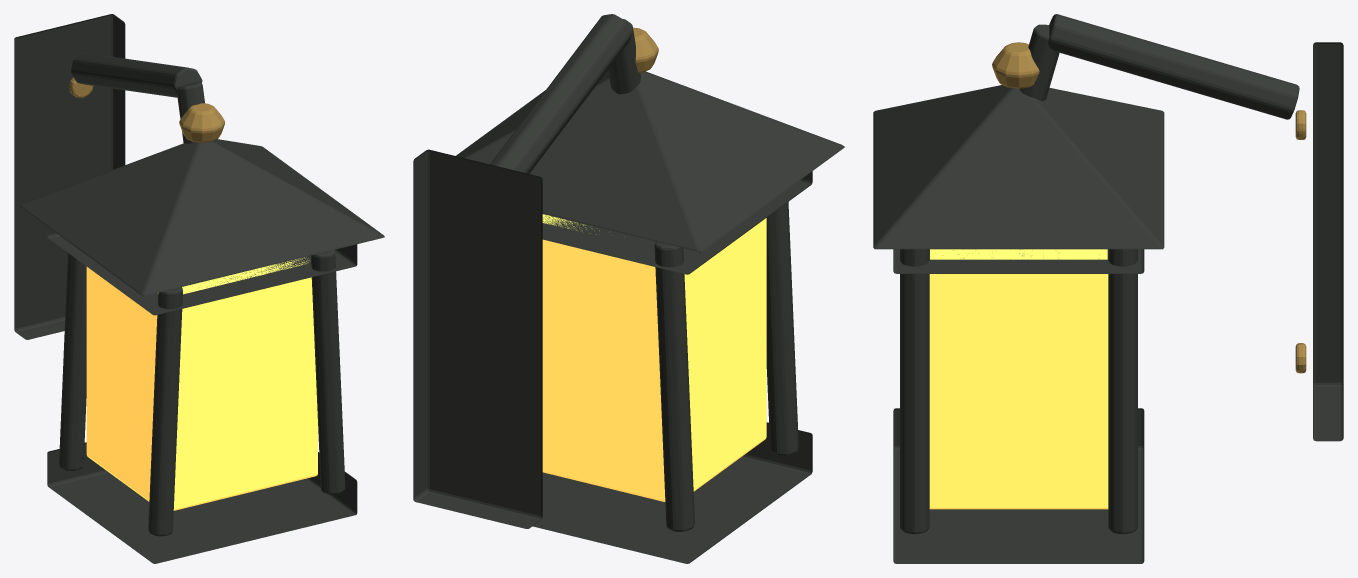
Rendered from wall_amber_lantern.glb.
3 views of the same model, side by side, from view 1: azimuth 30°, elevation 25°; view 2: azimuth 150°, elevation 25°; view 3: azimuth 270°, elevation 25° (orthographic). The views are drawn at different scales.
Parts seen in each view (by area): view 1: Wall_Amber_Lantern; view 2: Wall_Amber_Lantern; view 3: Wall_Amber_Lantern.
Boxes of the visible parts, x1,y1,x2,y2 form: Wall_Amber_Lantern: (14, 14, 384, 563); Wall_Amber_Lantern: (413, 14, 844, 563); Wall_Amber_Lantern: (873, 14, 1343, 563).
Bounding box in the file's own units: 0.5346 × 0.8856 × 0.7674.
